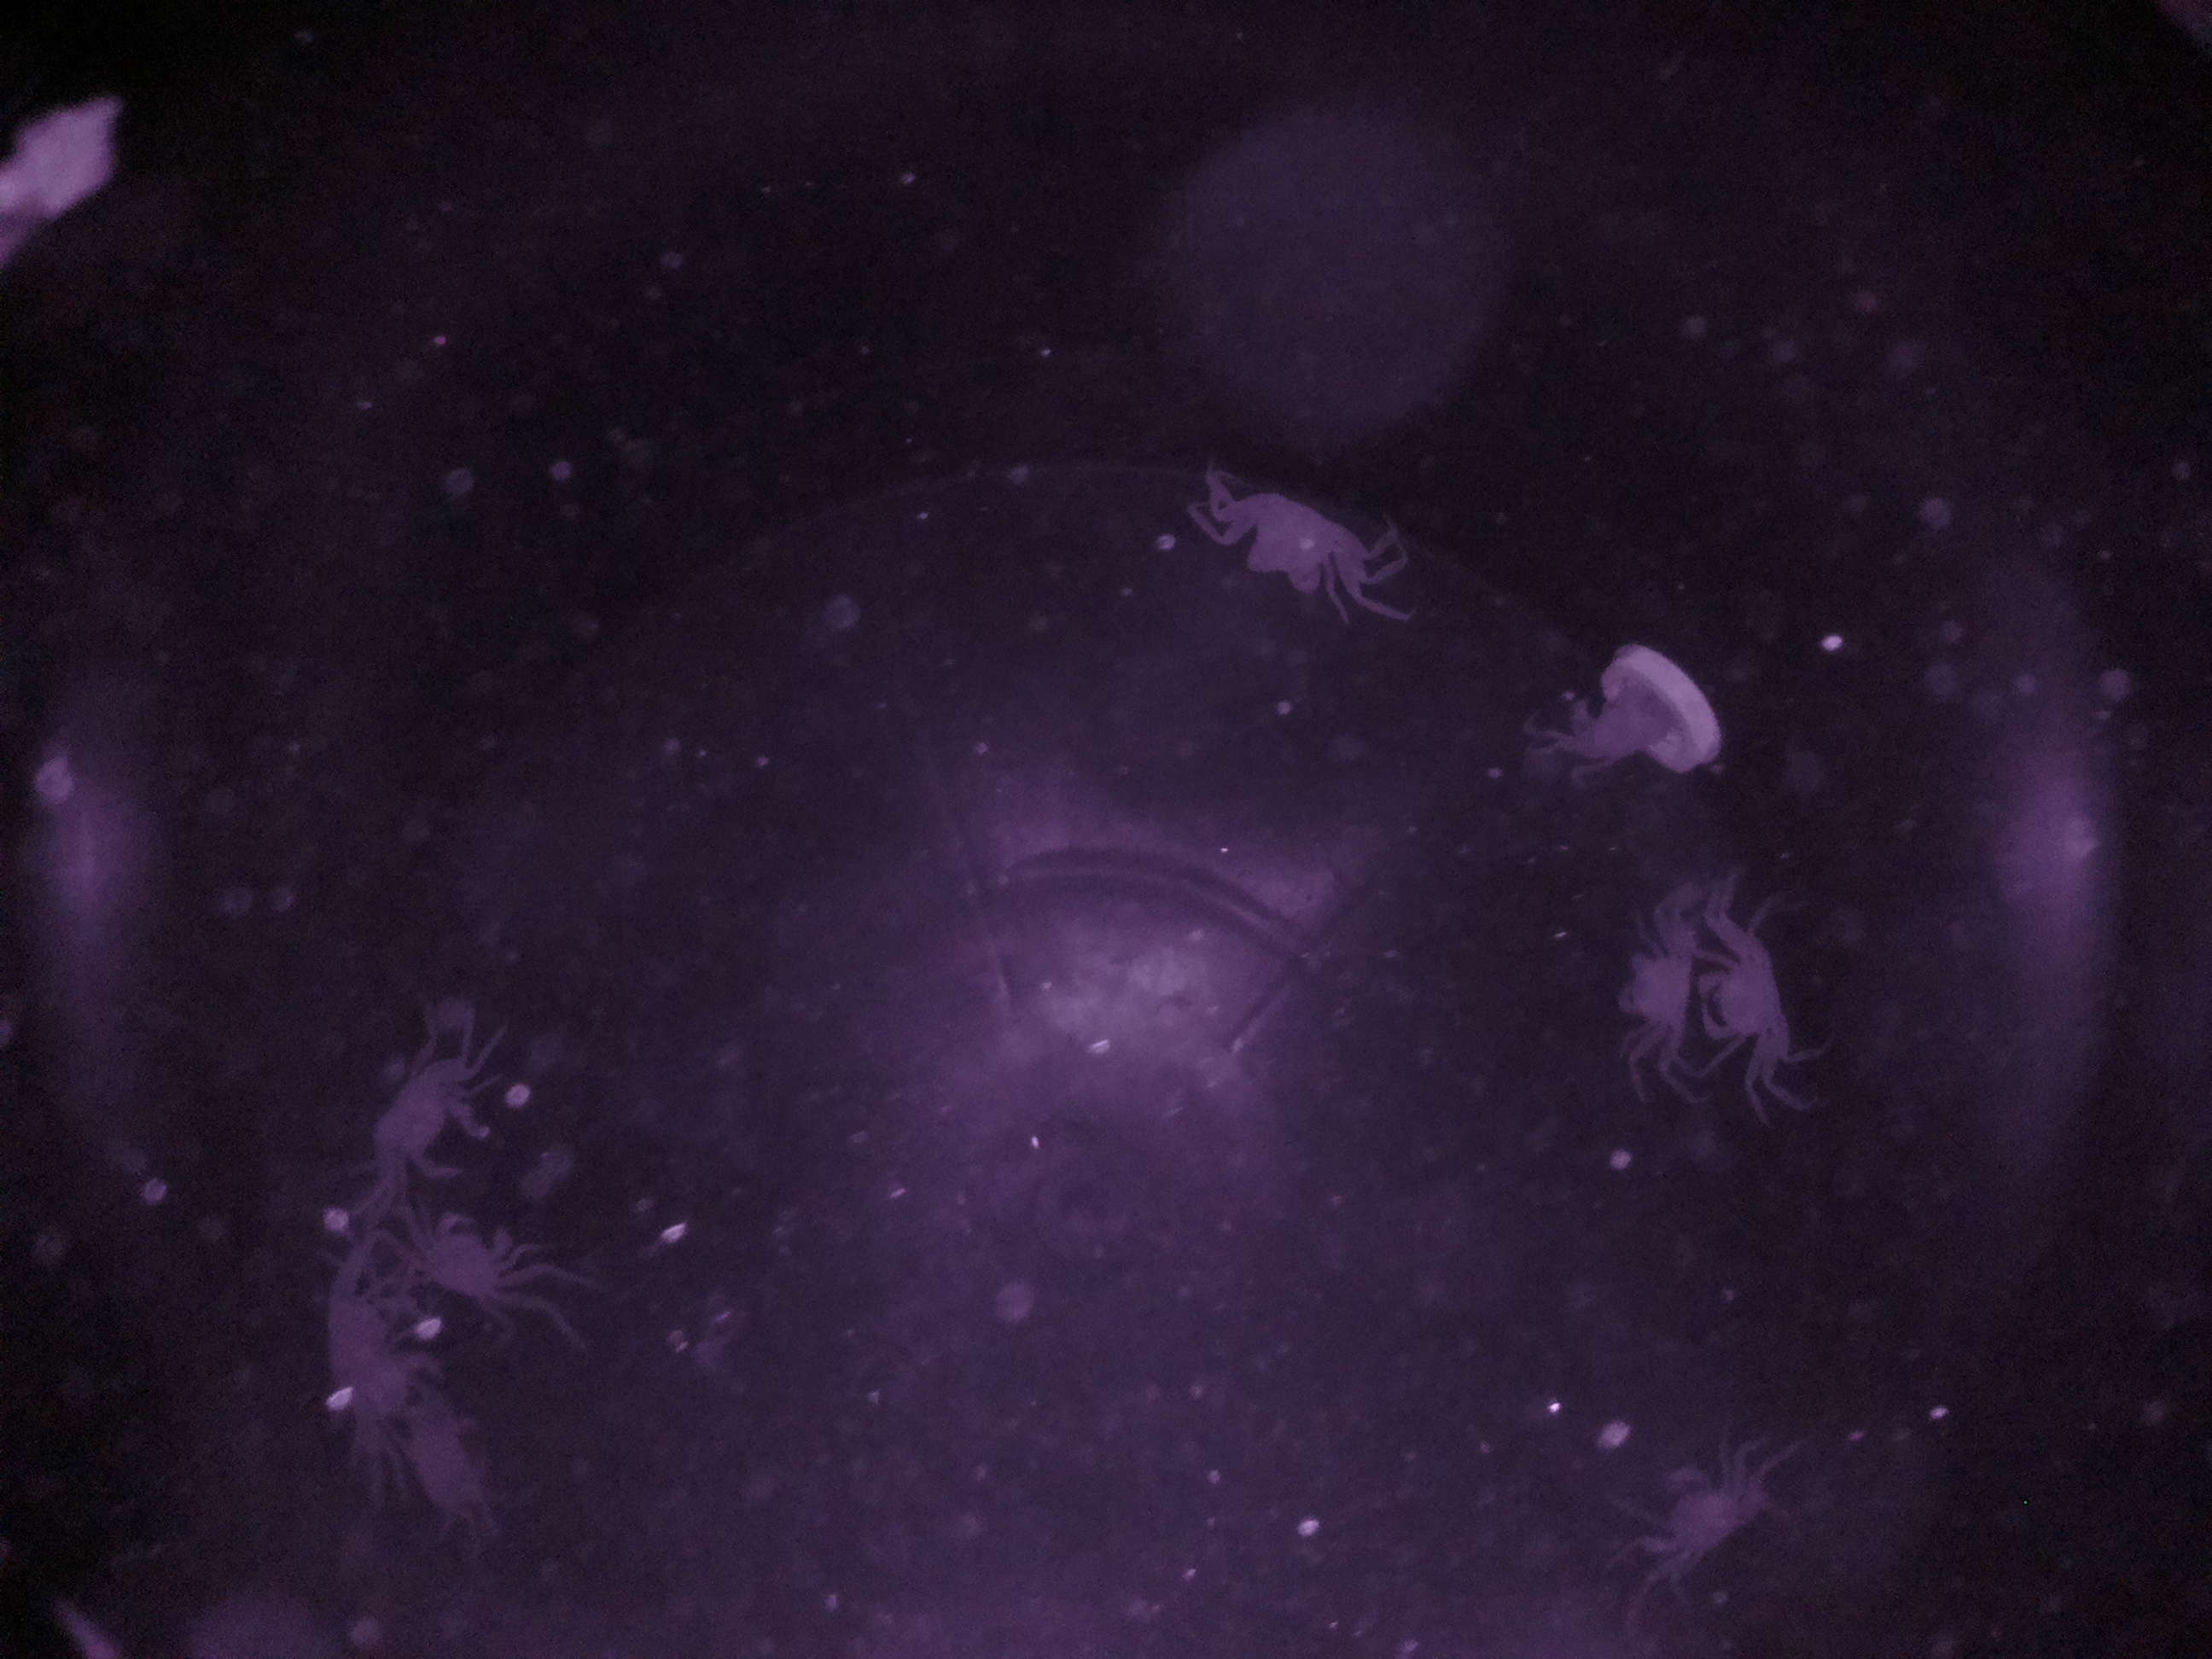Crab: (1696, 852, 1827, 1129), (327, 1019, 521, 1199), (1188, 465, 1395, 629), (373, 1190, 582, 1328)
